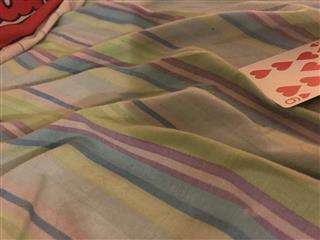NineOfHearts: (237, 38, 320, 109)
